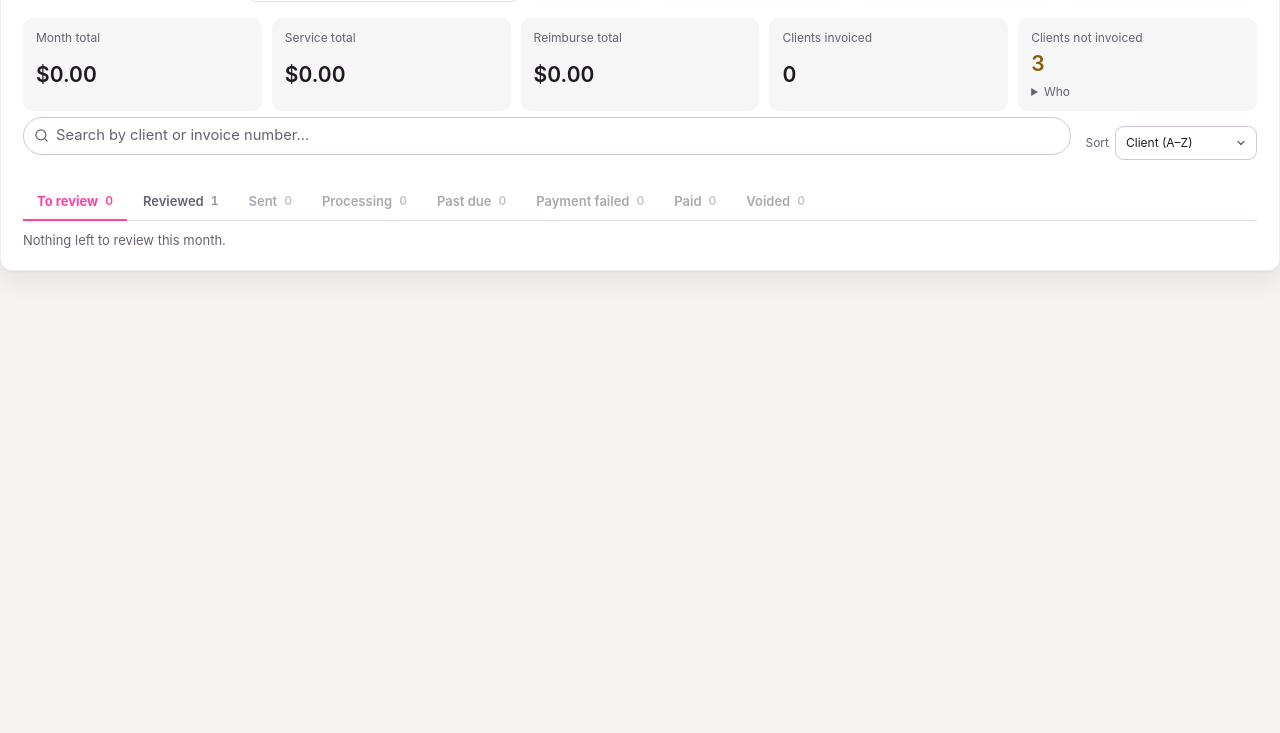
Test case: InvoiceMonthRun — who the invoice goes to › opens the checkbox list with everyone ticked when there is a choice
Click the tab "Reviewed 1": [181, 202] box [129,182,232,221]
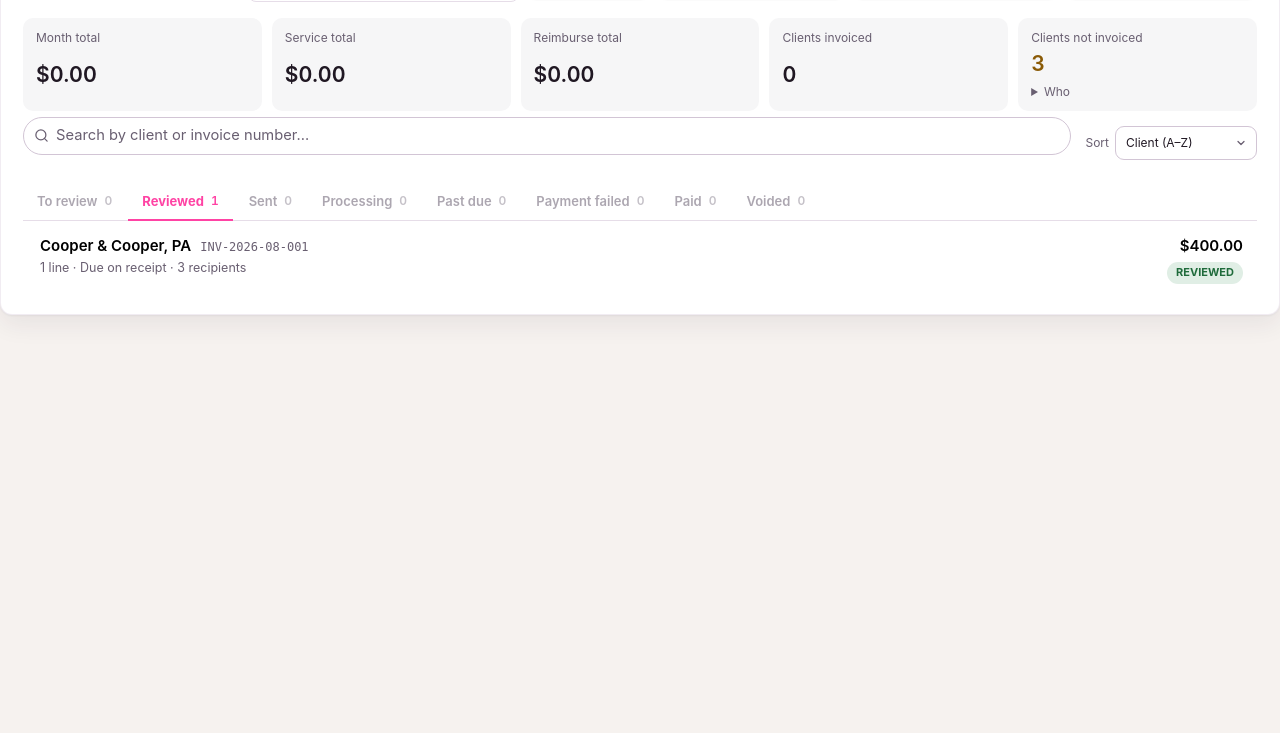
Click the text "INV-2026-08-001": [254, 248] box [200,239,309,257]
(page scrolled)
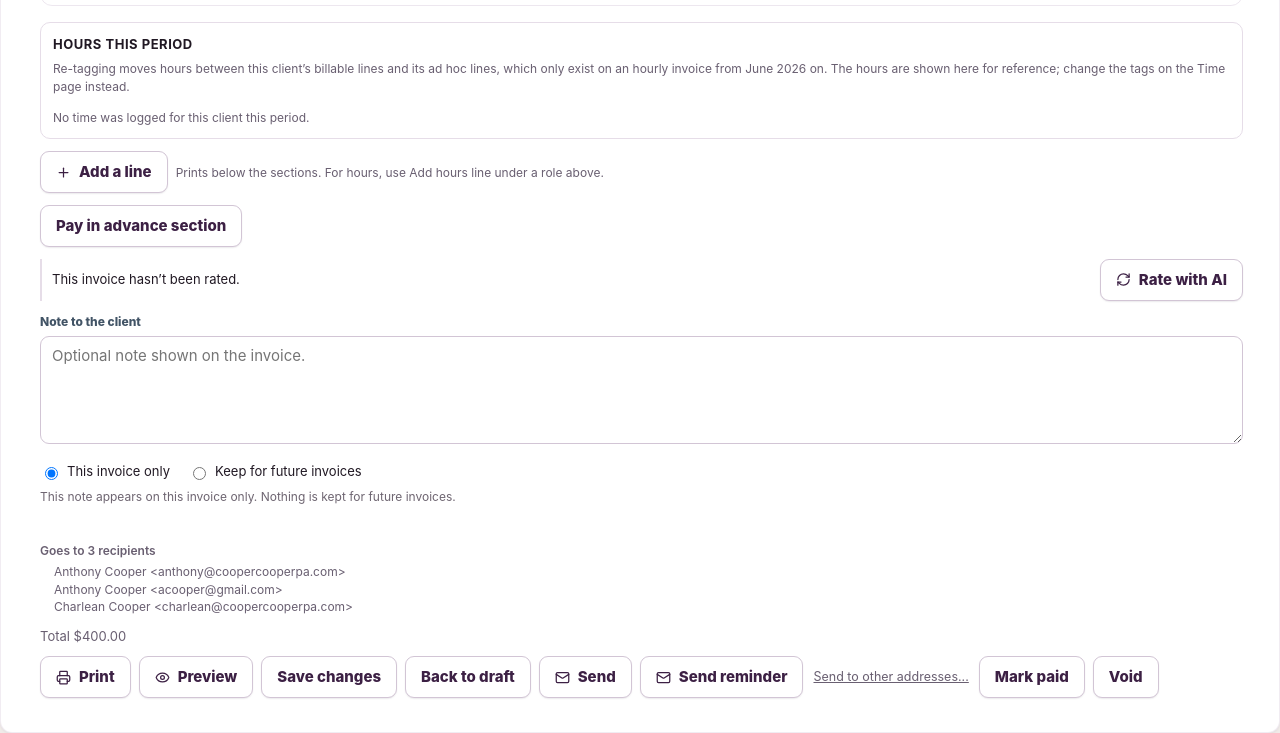
Click the button "Send": [585, 677] box [539,656,632,698]
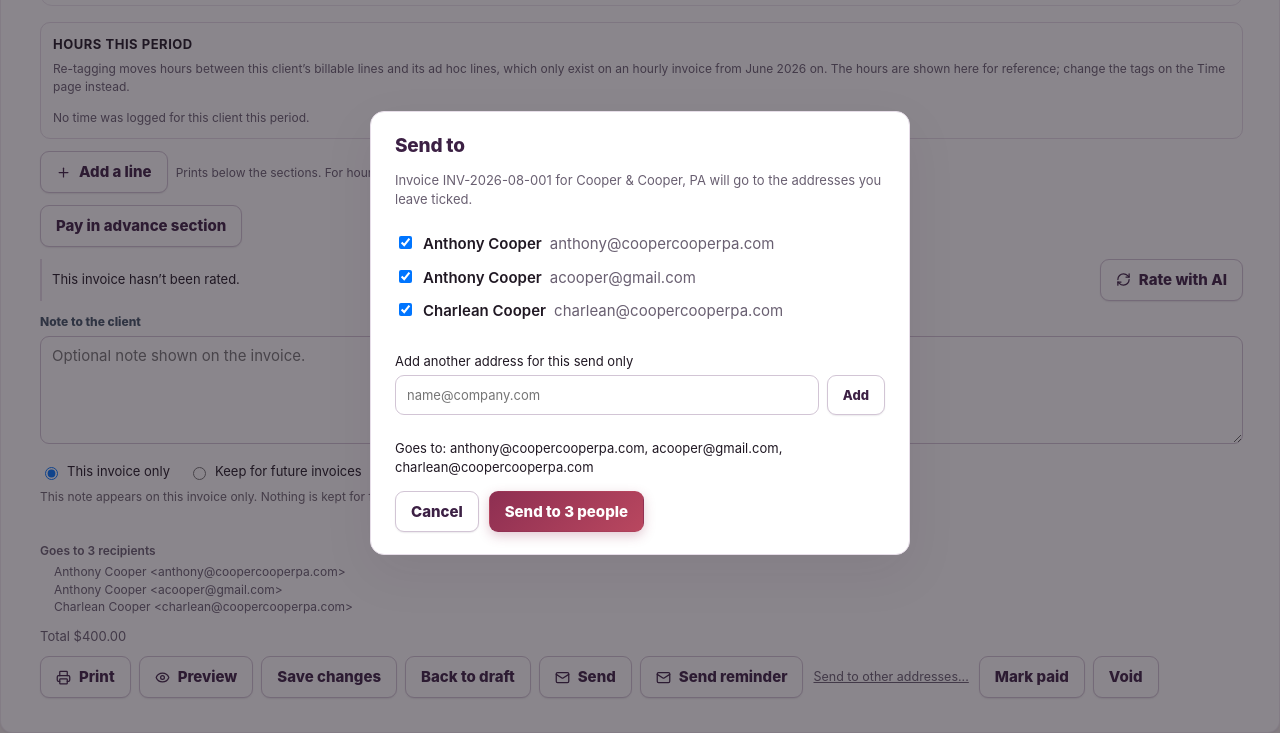
Result: the dialog shows "Invoice INV-2026-08-001 for Cooper & Cooper, PA" at [395,172,706,188]
Result: the number of checkboxes is 3 at [399,236,412,249]; [399,270,412,283]; [399,304,412,316]
Result: the button "Send to 3 people" is enabled at [489,491,644,532]
